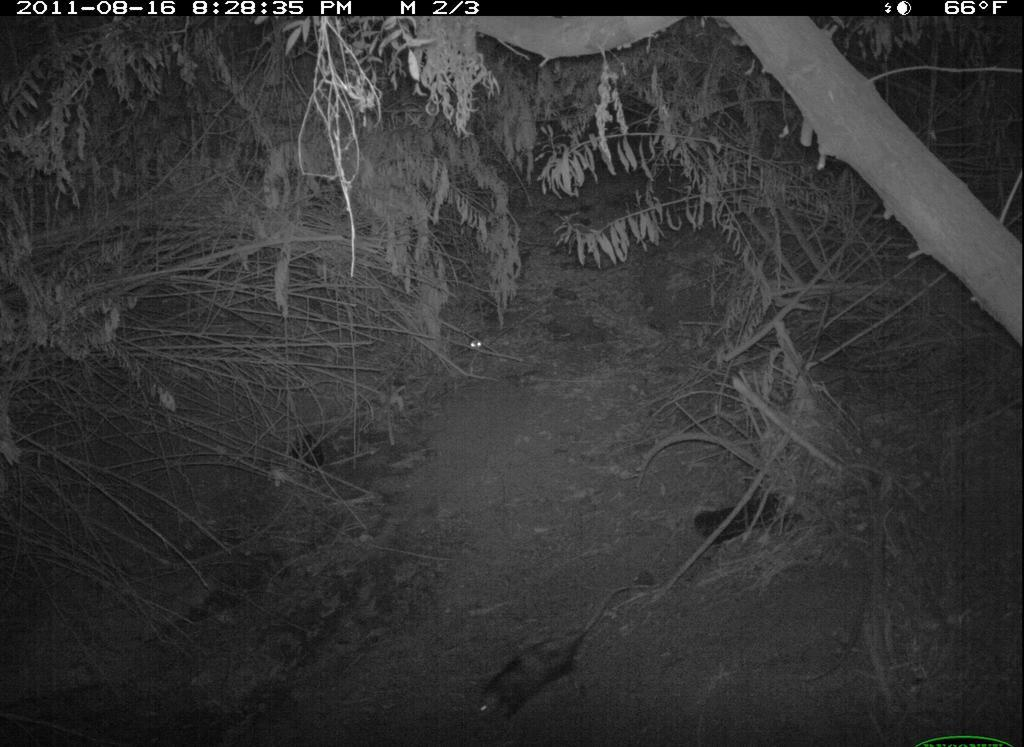opossum: (436, 571, 657, 744)
